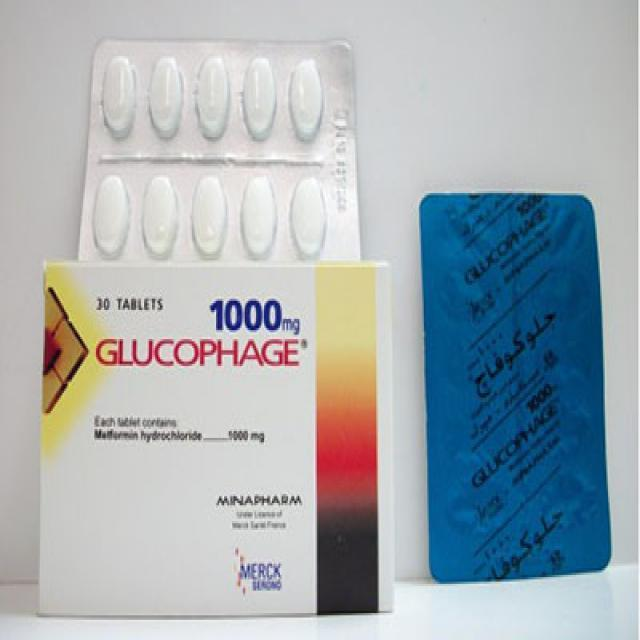drug-name: (94, 336, 304, 370)
